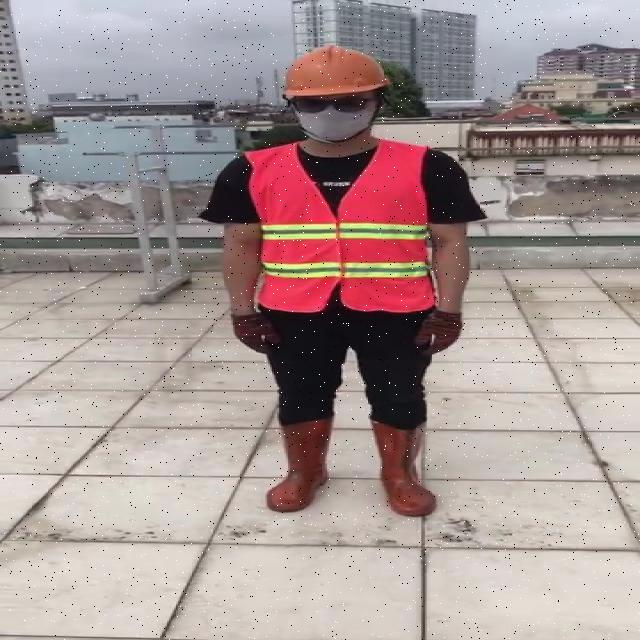Hard_hat: (279, 41, 395, 108)
Vest: (253, 140, 436, 314)
